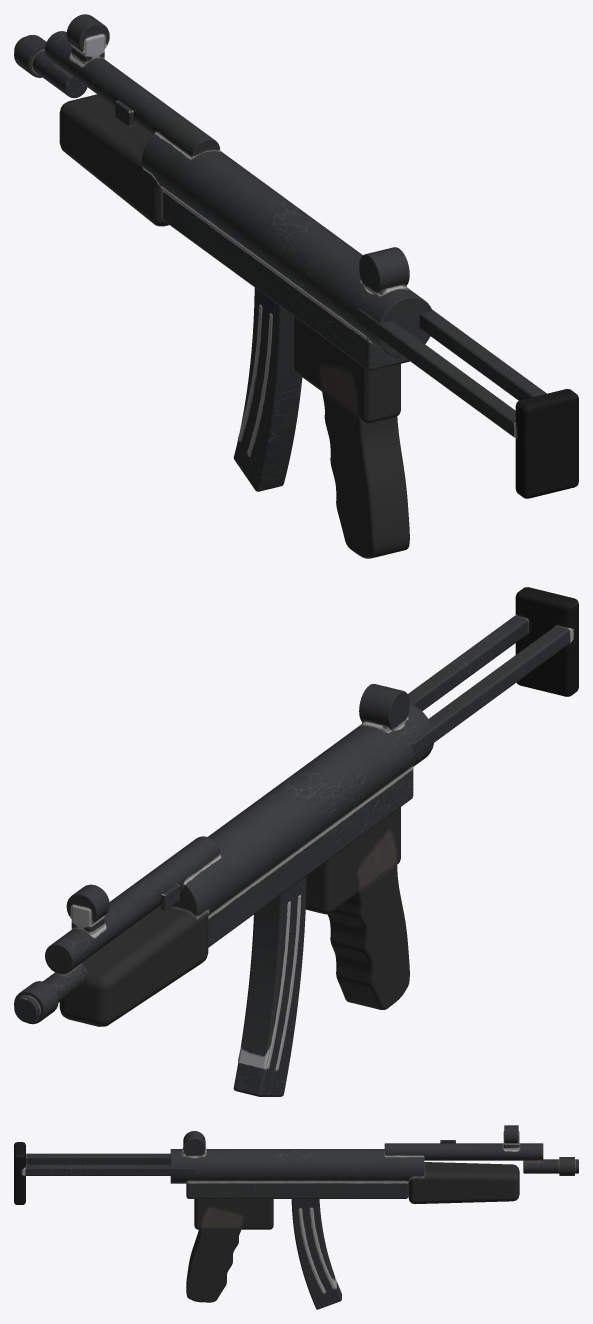
The picture shows the model from 3 angles, top to bottom: view 1: azimuth 30°, elevation 25°; view 2: azimuth 150°, elevation 25°; view 3: azimuth 270°, elevation 25°; orthographic projection. The views are drawn at different scales.
Parts seen in each view (by area): view 1: Frame, Stock, Mag_body; view 2: Frame, Stock, Mag_body; view 3: Frame, Stock, Mag_body.
Boxes of the visible parts, <box> form: Frame: <box>14,14,431,558</box>; Stock: <box>357,308,578,498</box>; Mag_body: <box>233,287,302,491</box>; Frame: <box>14,684,433,1026</box>; Stock: <box>407,587,578,757</box>; Mag_body: <box>233,876,306,1096</box>; Frame: <box>170,1125,578,1302</box>; Stock: <box>14,1142,193,1204</box>; Mag_body: <box>291,1199,341,1309</box>.
Size of the model in its own units: 0.044 by 0.251 by 0.7125.
Materials: 4 (4 with a texture image).
